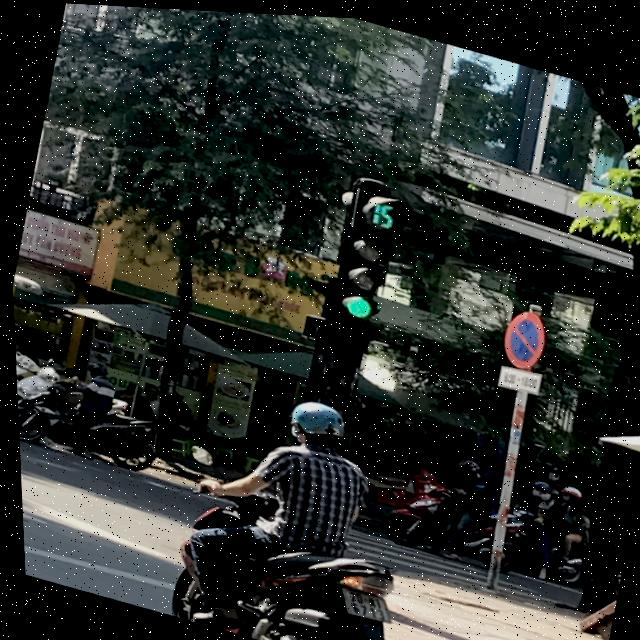Green: (321, 218, 398, 328)
